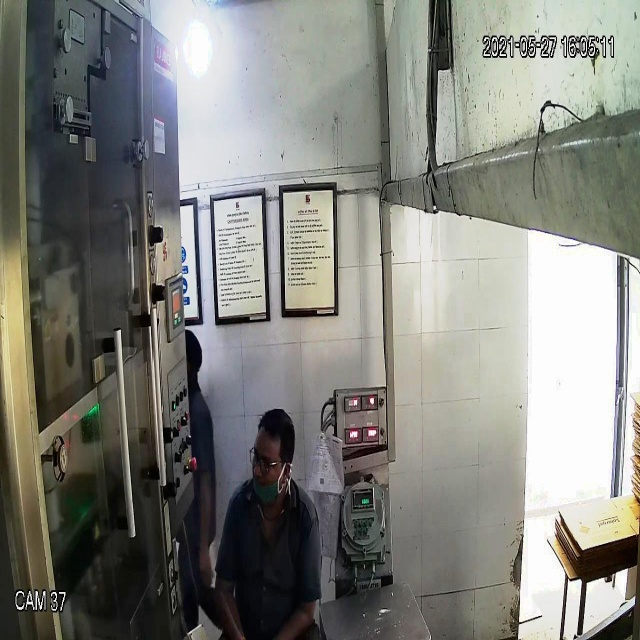Gafas: (246, 443, 293, 475)
